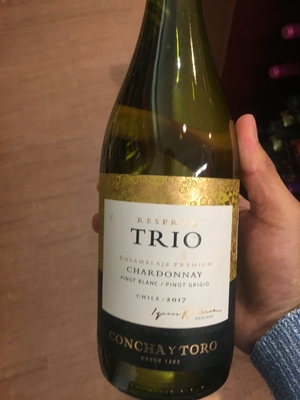trio chardonnay: (78, 19, 261, 386)
